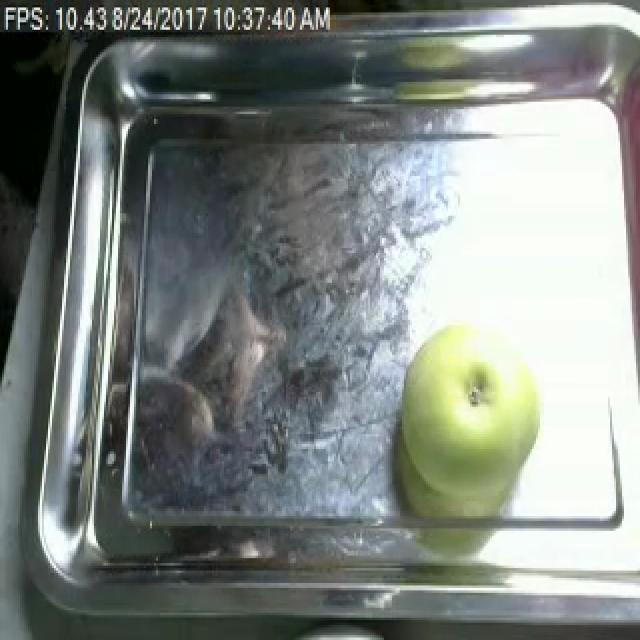50-_ripeness: (394, 320, 544, 495)
